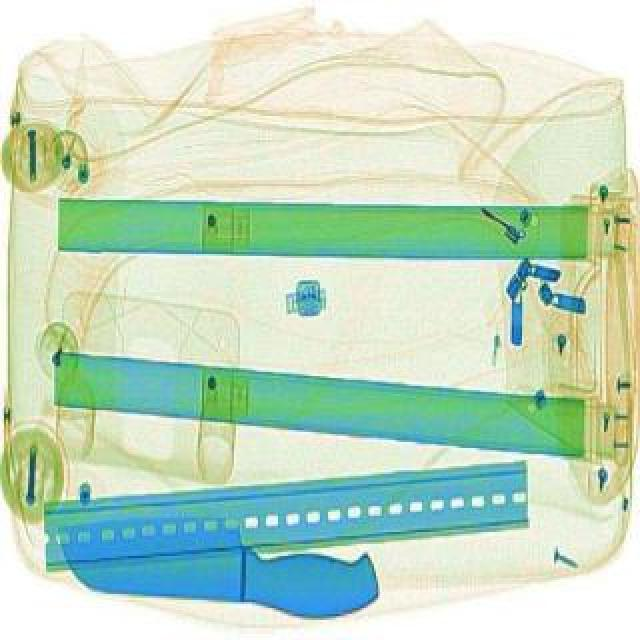knife: (54, 506, 388, 626)
